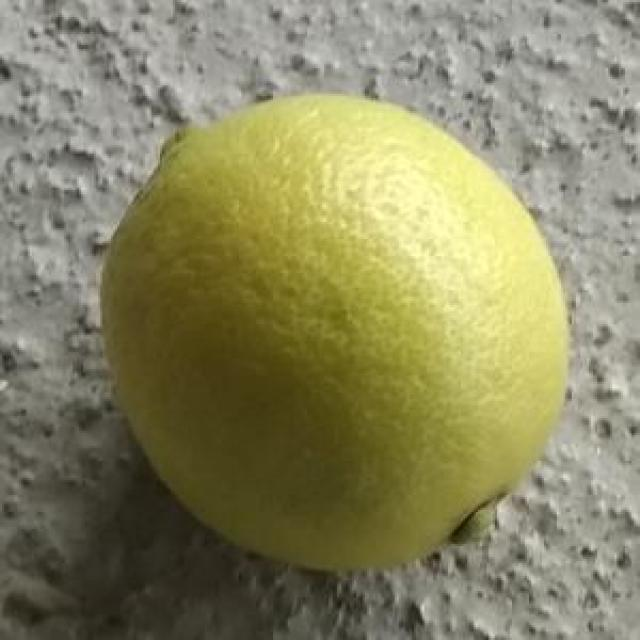lemon: (102, 95, 572, 578)
